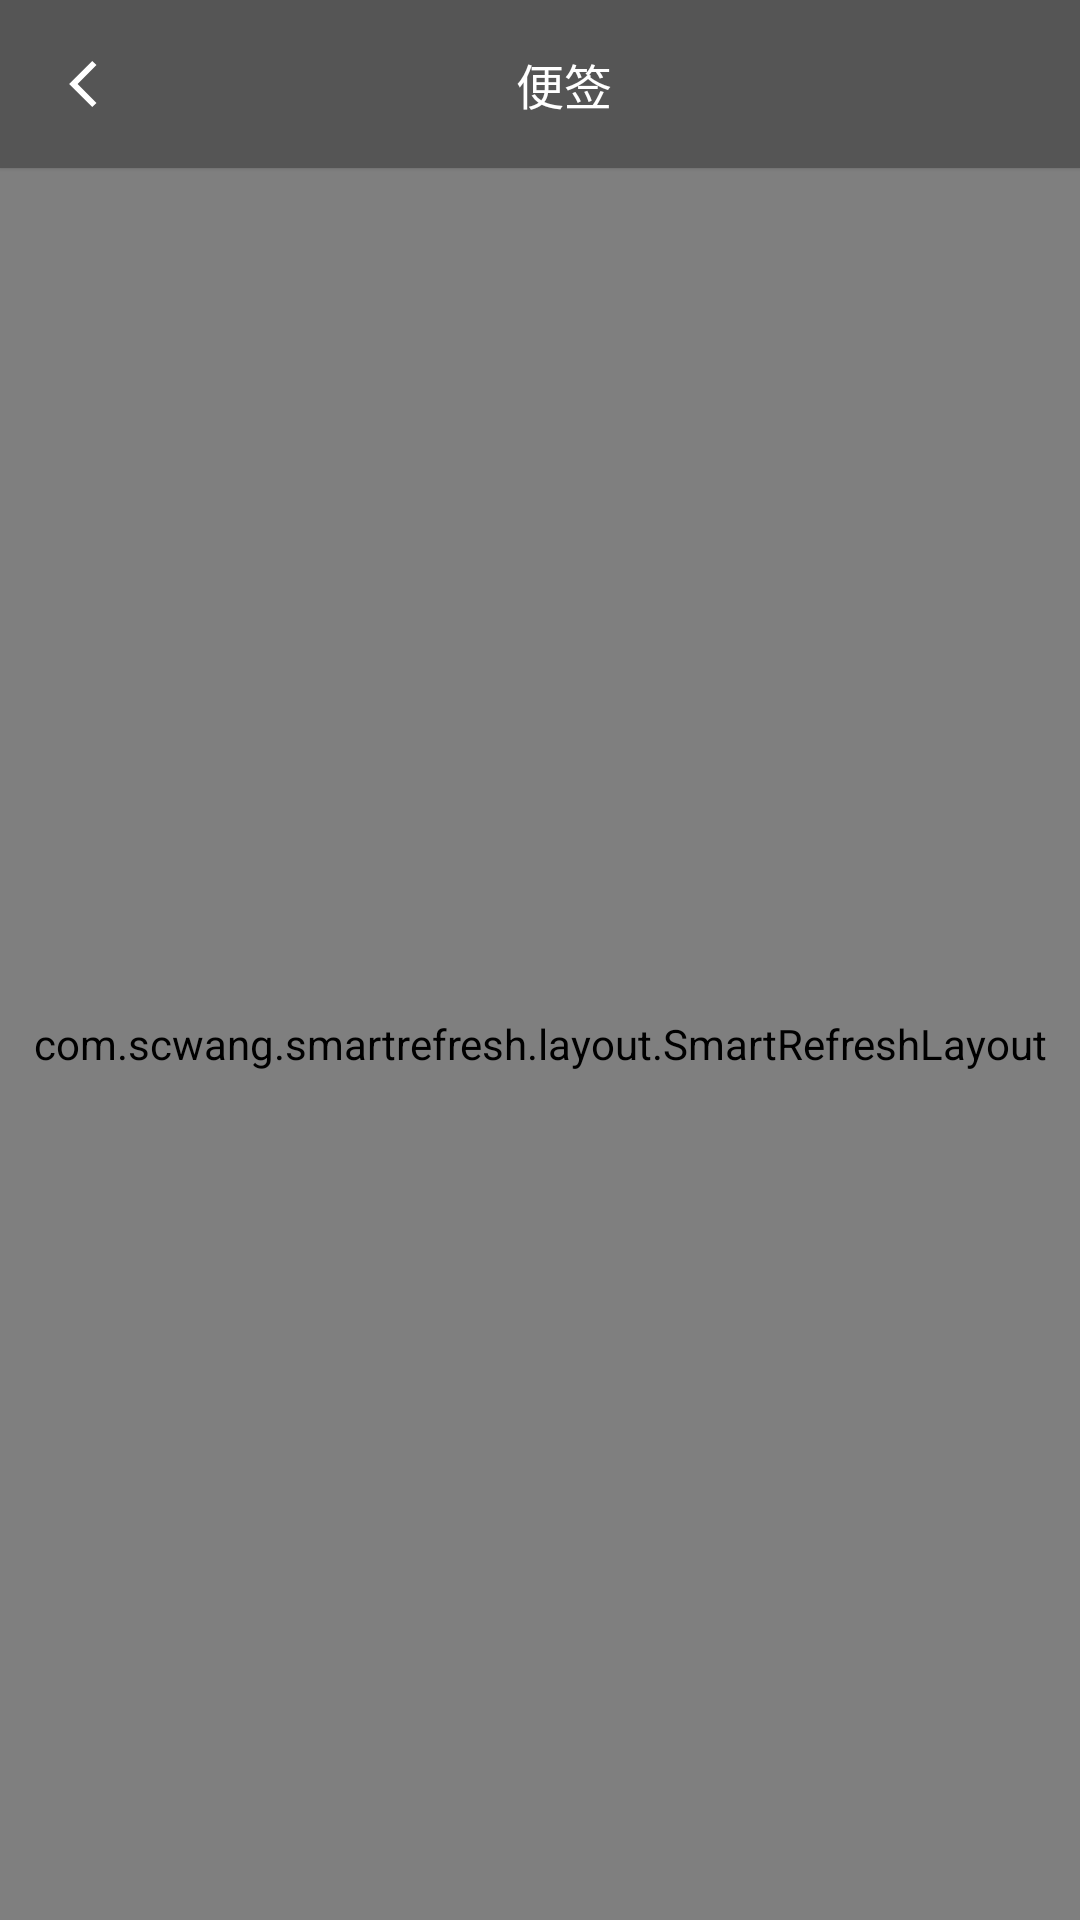

Screen size 1080w x 1920h. Icon name, then its center in pixels as (x,y):
arrow left: (82,84)
